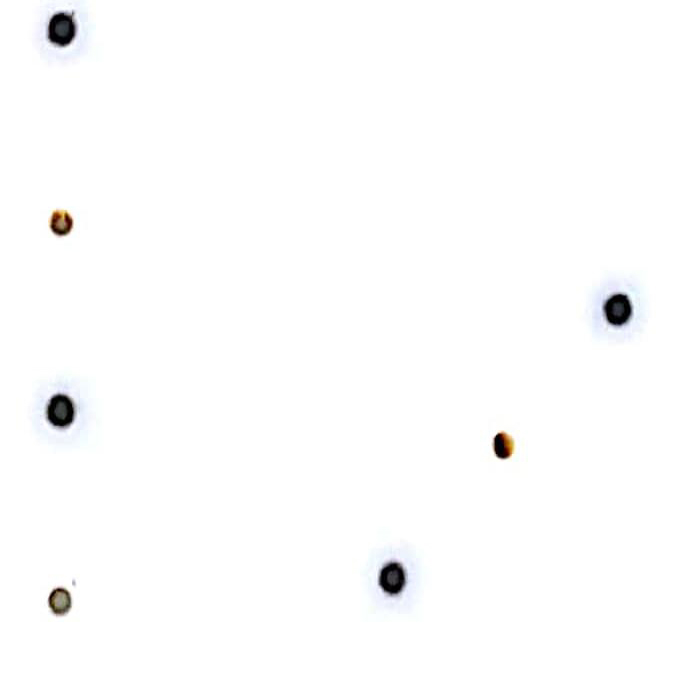cancer: (24, 1, 127, 77), (20, 362, 107, 450), (356, 529, 441, 618), (575, 272, 654, 346)
normal: (33, 190, 102, 253), (32, 570, 96, 628), (479, 423, 537, 475)
